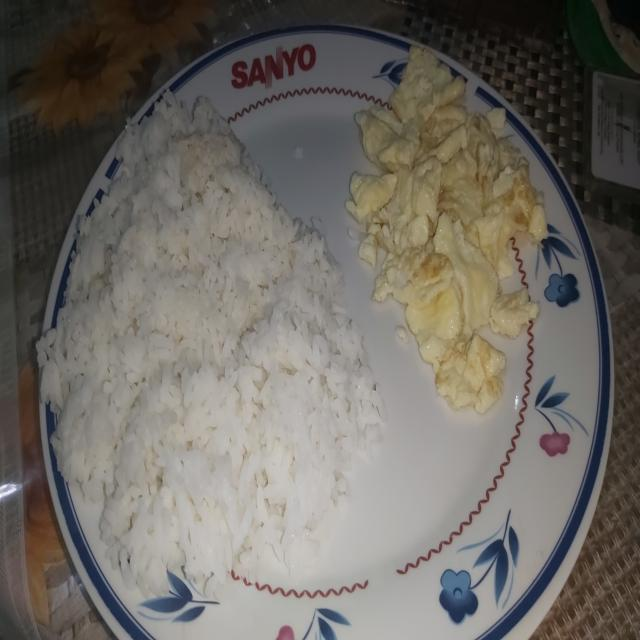Chicken -Chicken Inasal-: (51, 95, 339, 583)
